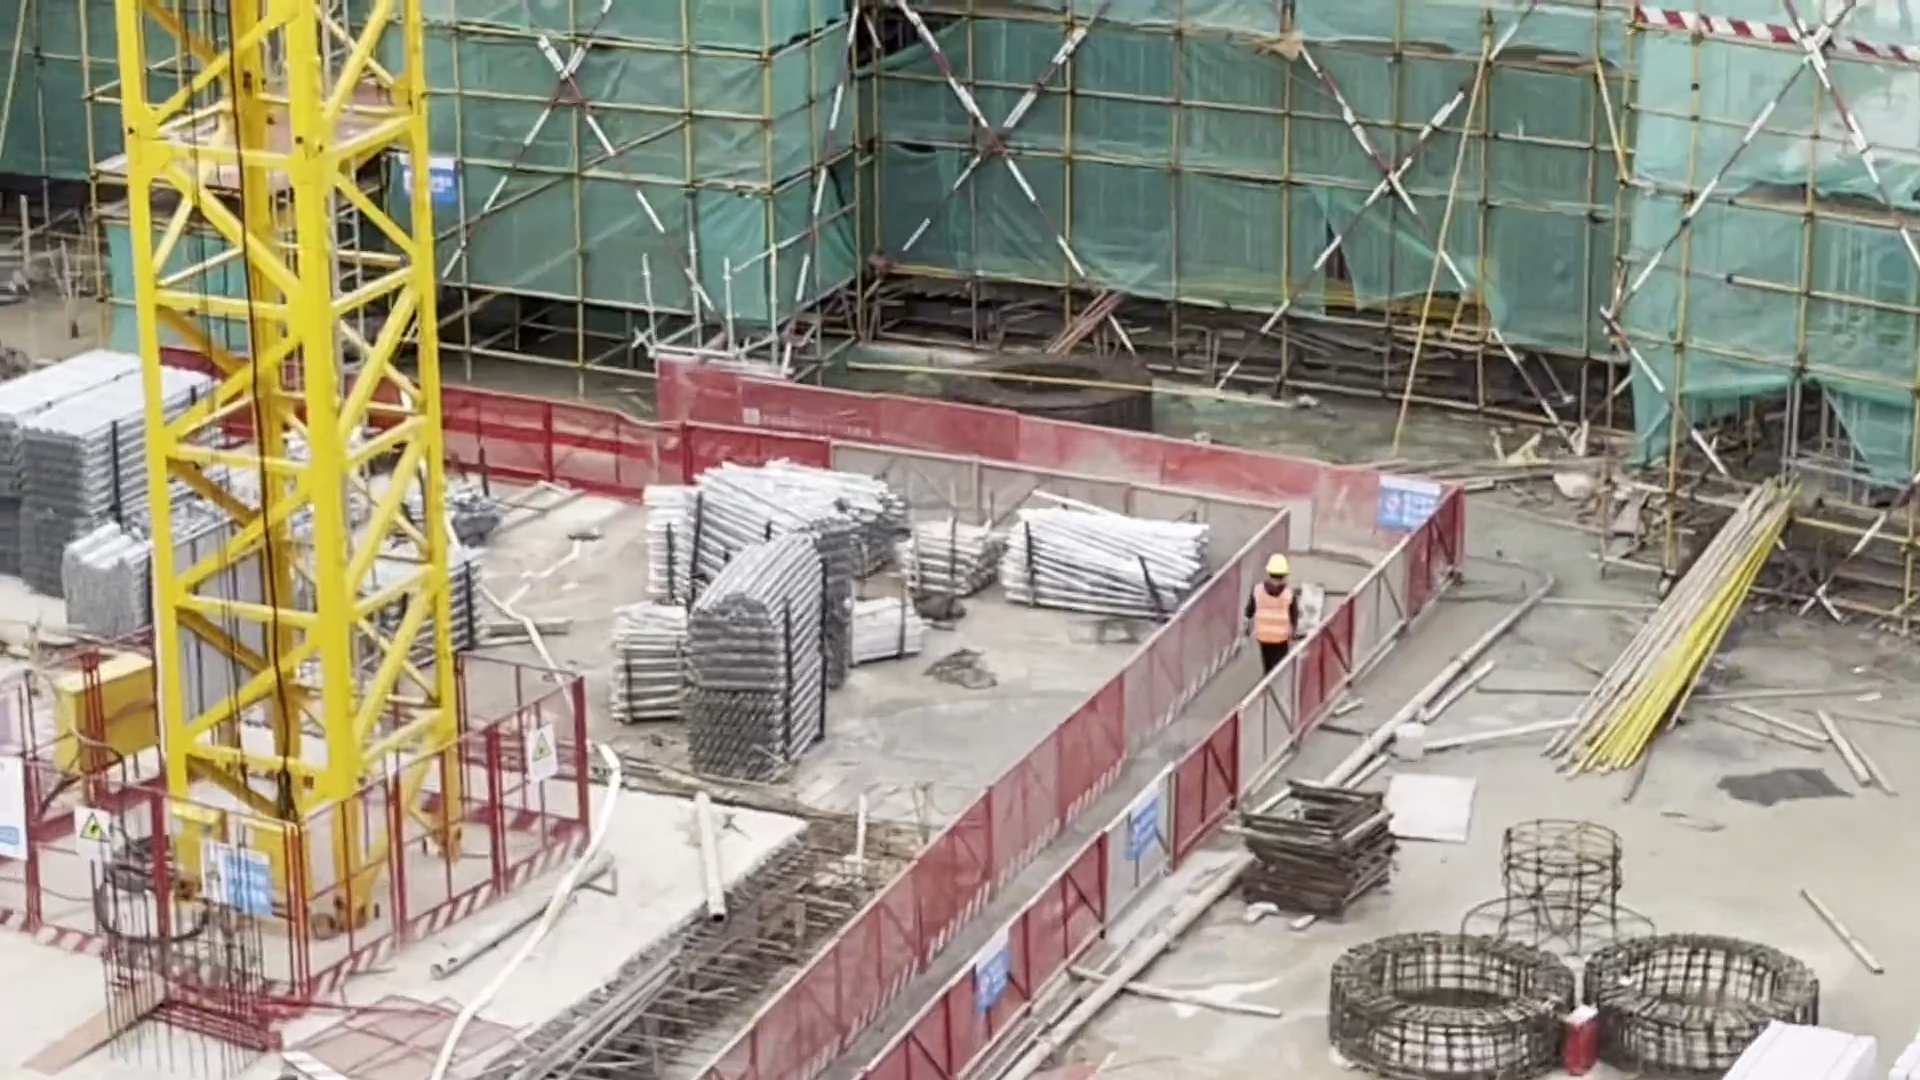fence: (892, 681, 1141, 1080), (674, 449, 1463, 554)
helmet: (1262, 551, 1292, 577)
person: (1239, 534, 1321, 681)
scaffold: (6, 364, 219, 612), (672, 519, 850, 783), (635, 458, 912, 595), (1008, 494, 1204, 627), (897, 513, 1017, 613)
vest: (1250, 585, 1296, 644)
